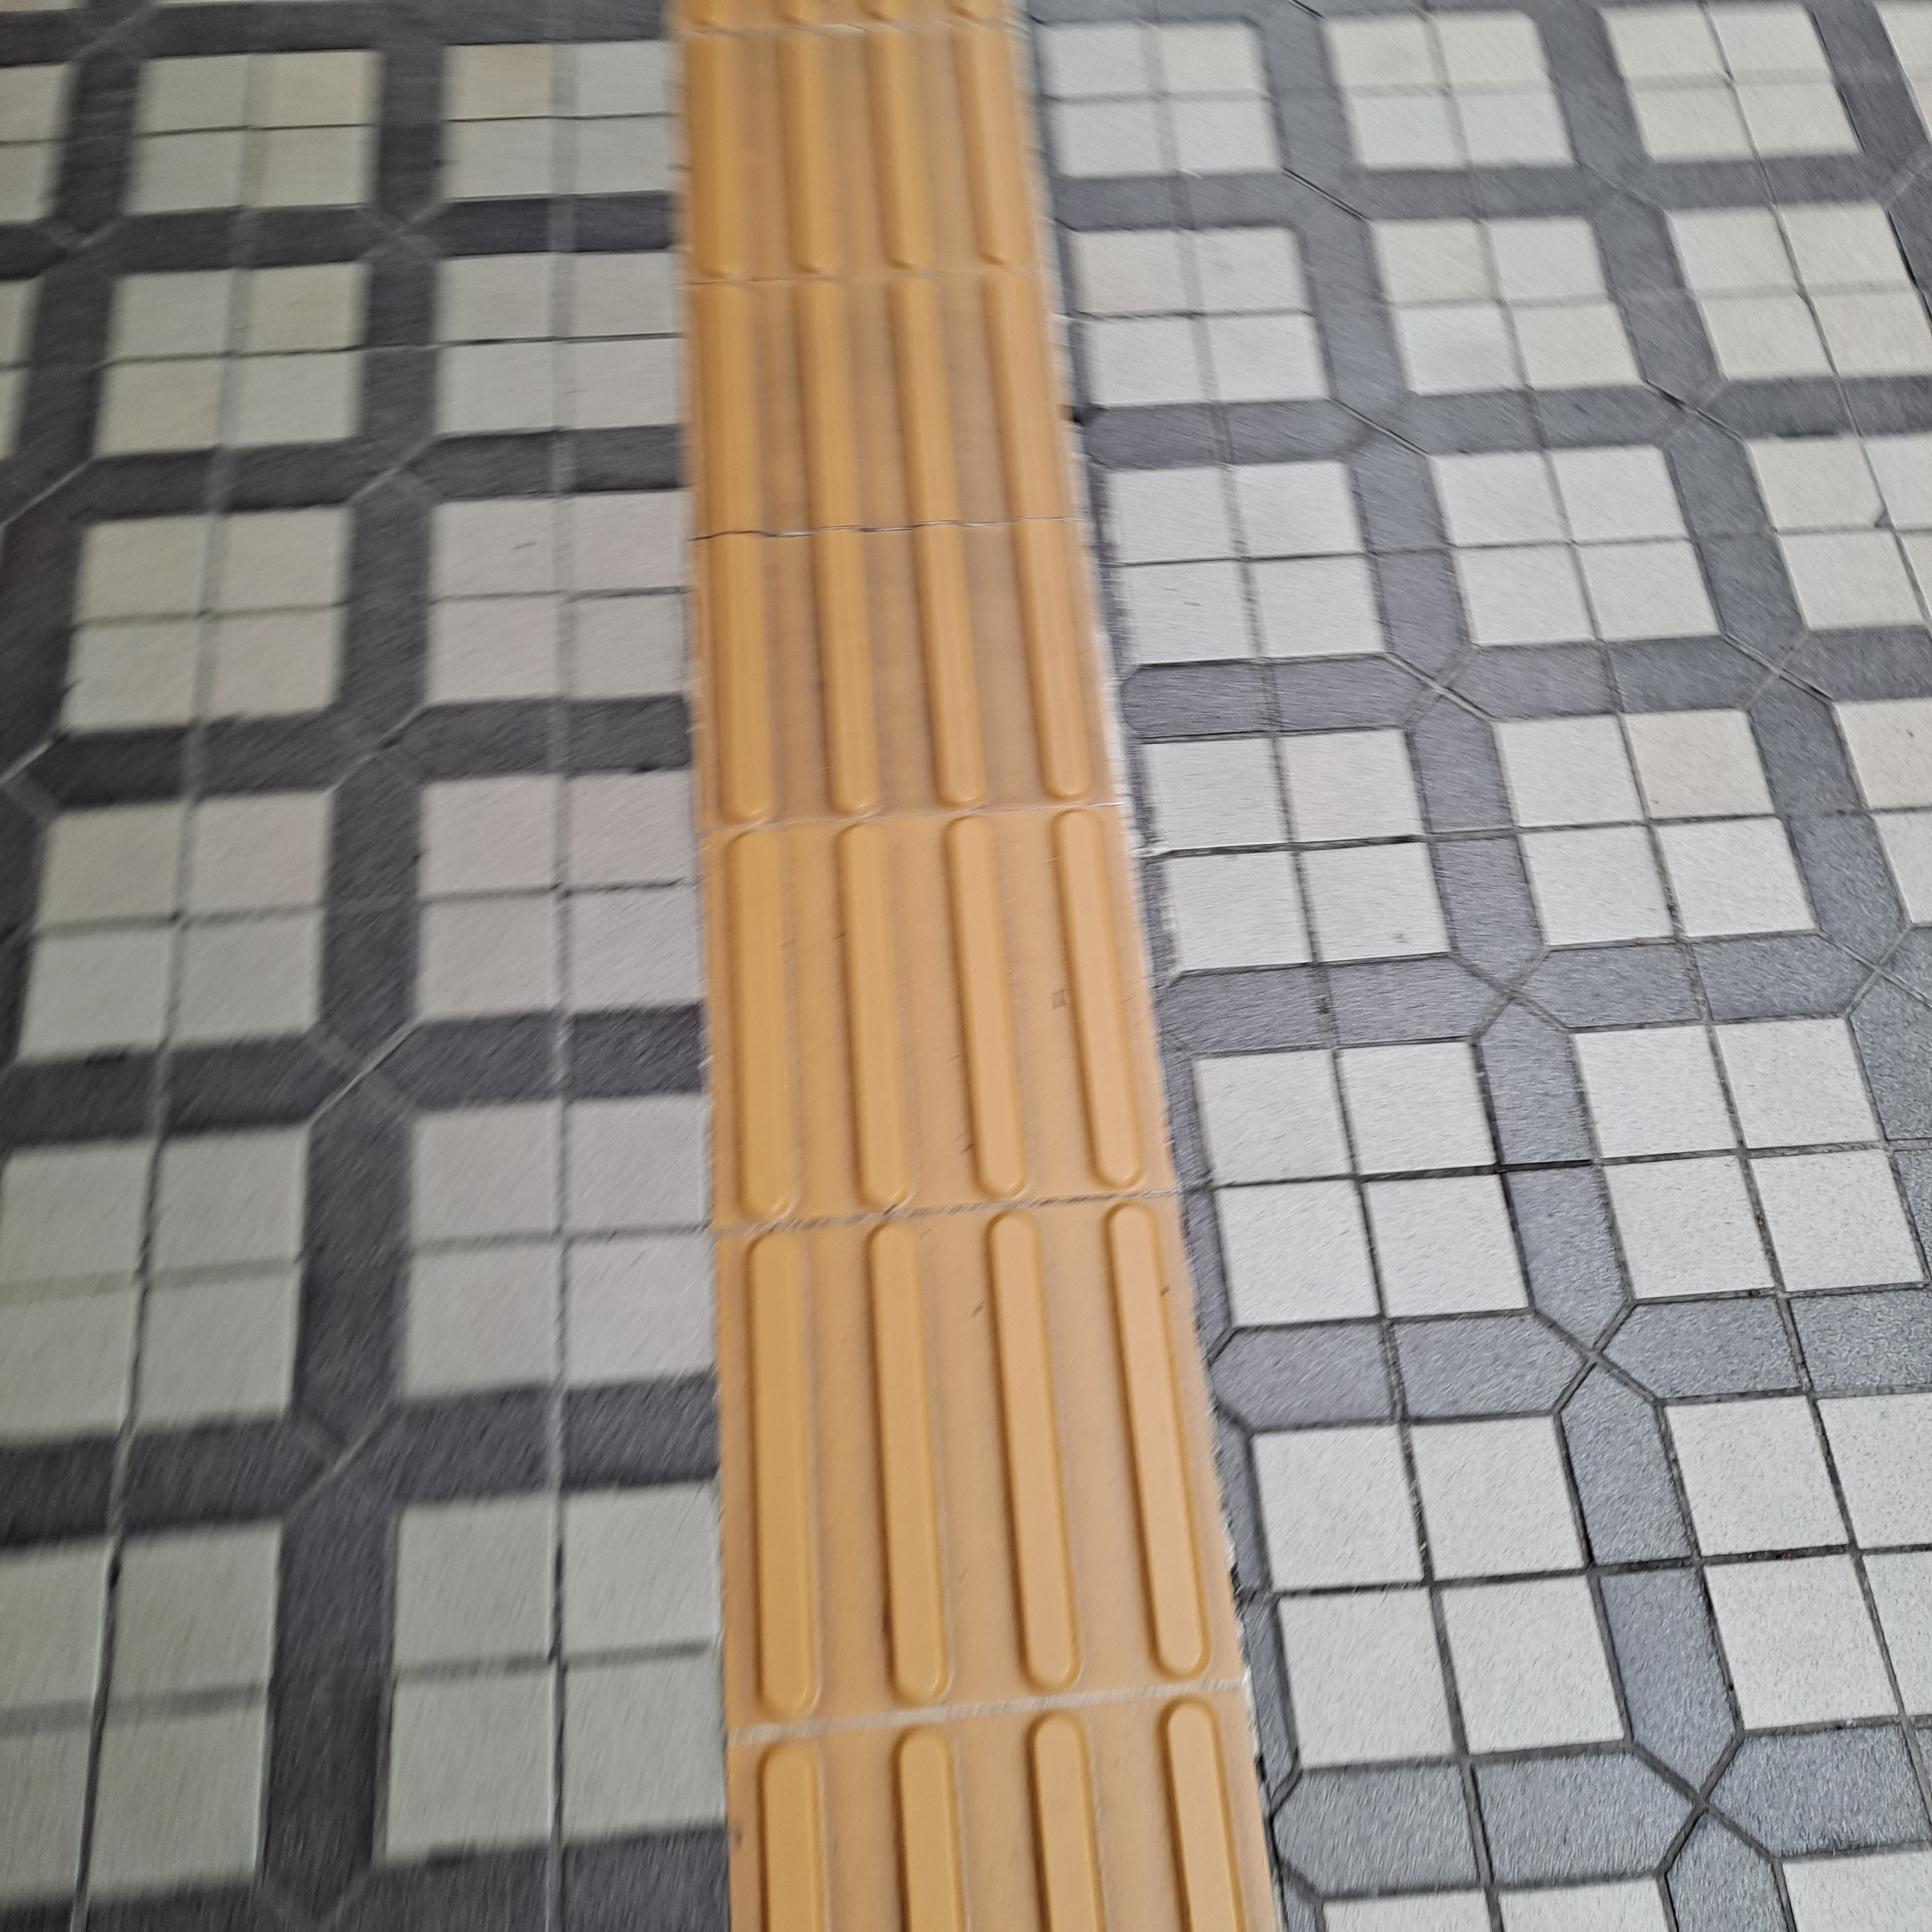guideBlock: (711, 1244, 1182, 1642), (745, 816, 1115, 1219), (711, 474, 1074, 807), (725, 251, 1049, 522), (688, 30, 1023, 253)
